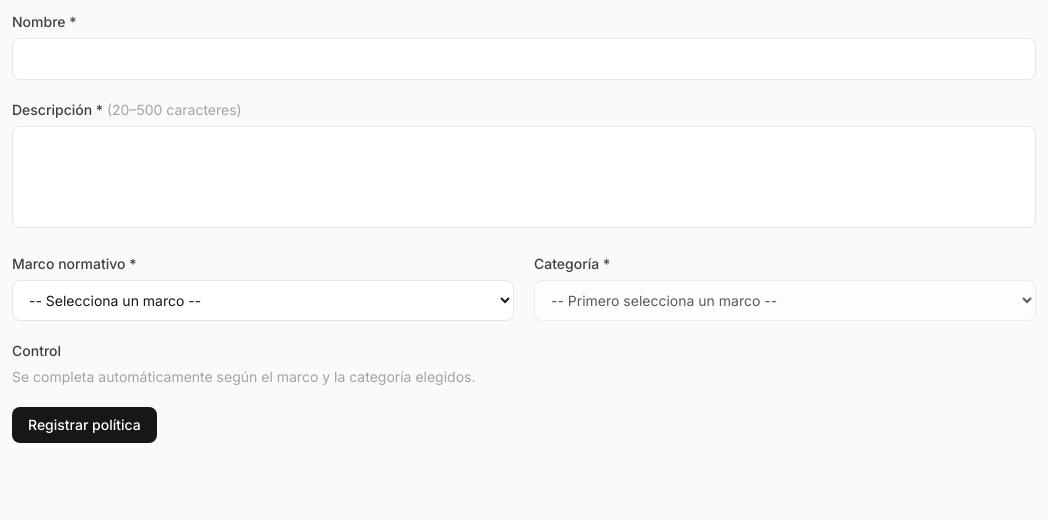
Test case: PolicyCreateForm › shows validation error when name is empty
Click the button "Registrar política" at {"x": 84, "y": 425}, box [12,407,157,443]
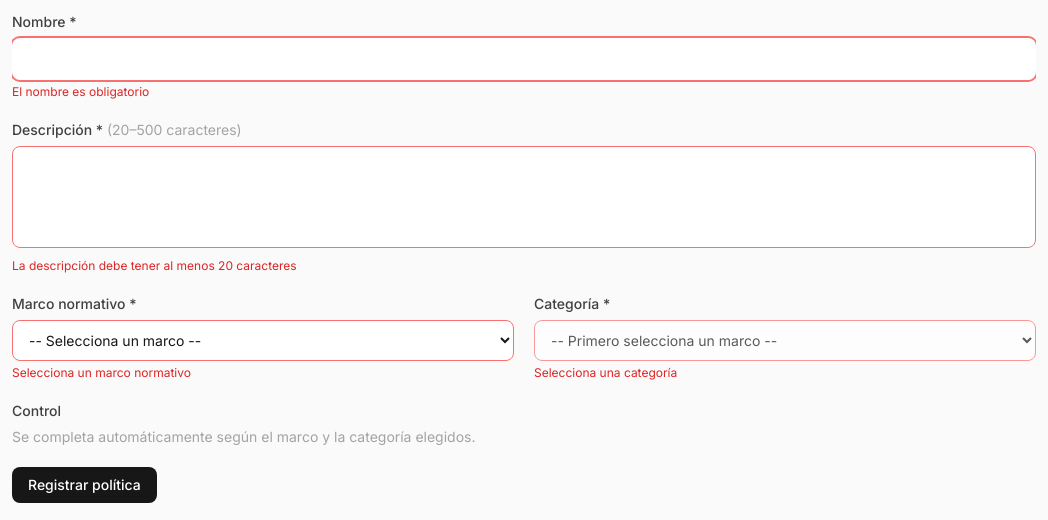
Check: the text "El nombre es obligatorio" is shown, box [12,84,149,99]
